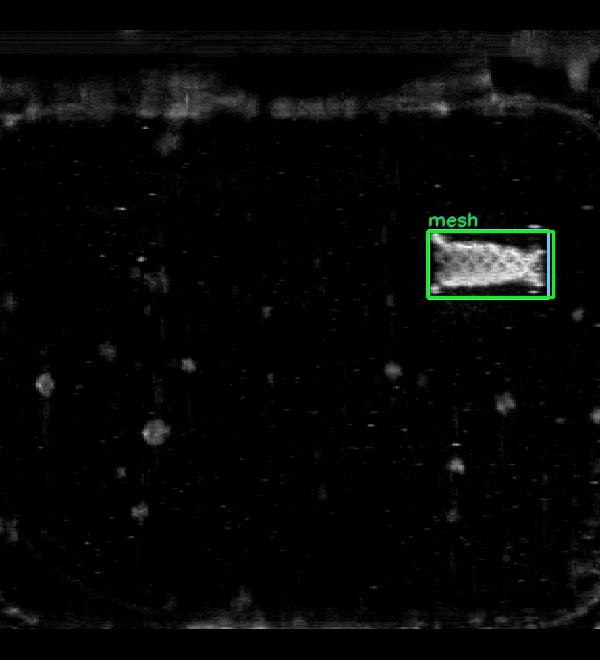mesh: (428, 230, 548, 298)
